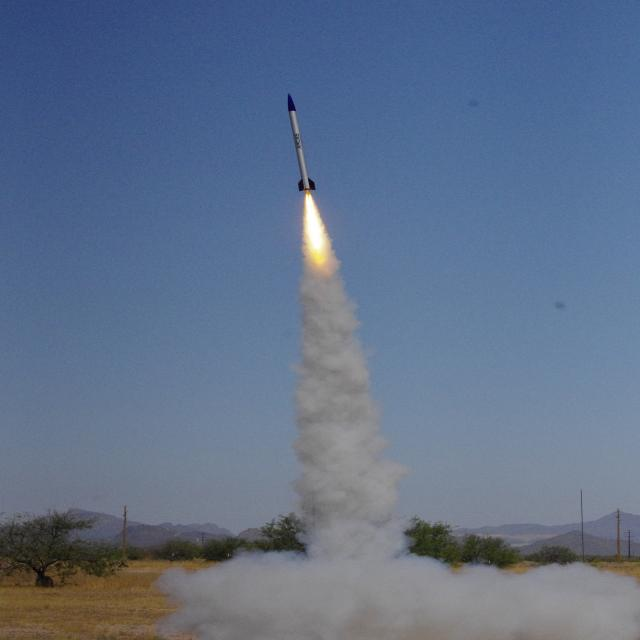Rocket: (288, 93, 316, 191)
